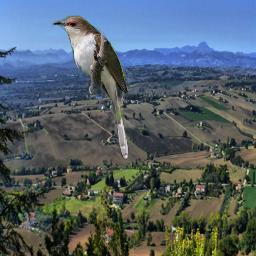Cuckoo: (51, 15, 129, 160)
